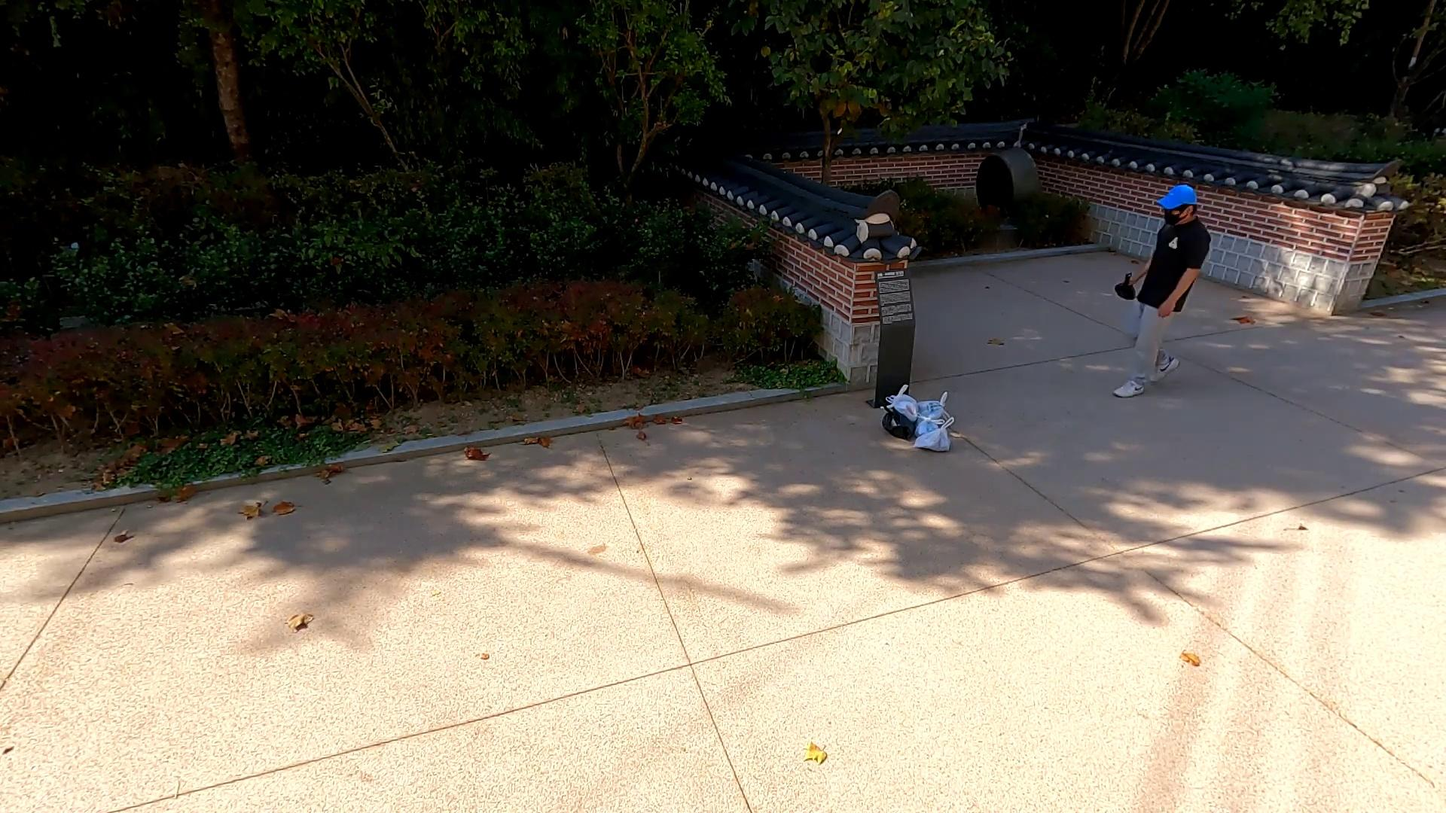person: (1110, 172, 1213, 403)
trash: (880, 401, 919, 444), (914, 416, 955, 455), (883, 383, 922, 423), (915, 390, 956, 426), (1114, 272, 1139, 301), (916, 415, 944, 438)
